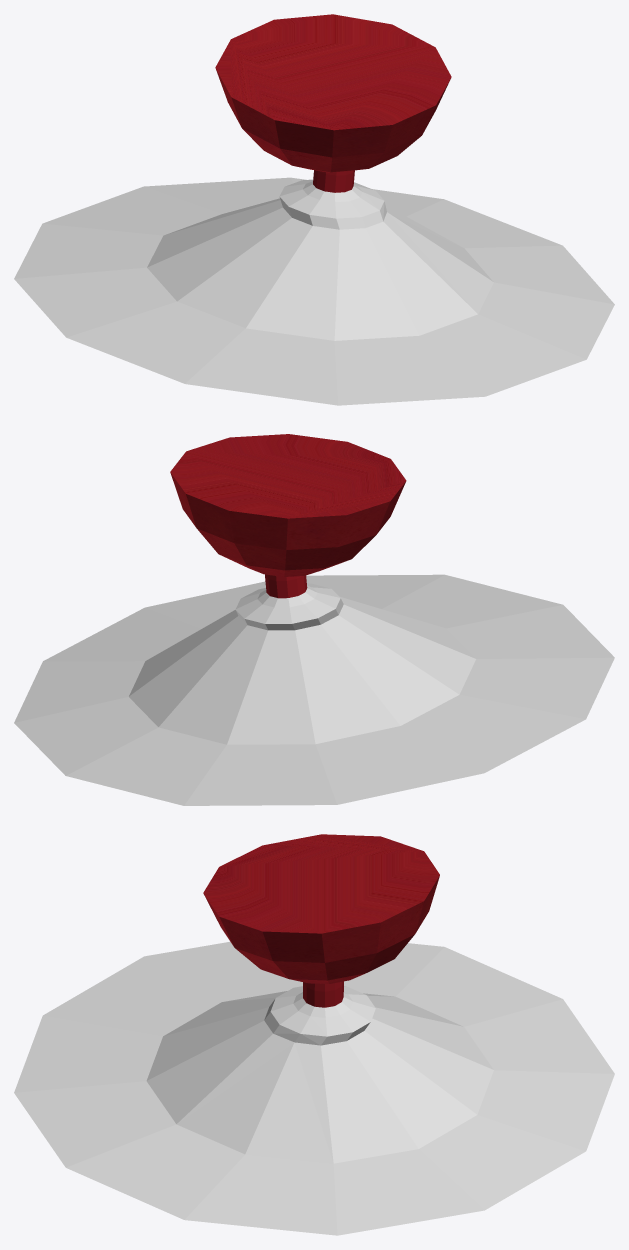
The model's file is Ceng-ceng.fbx.
3 renders of one model, top to bottom at view 1: azimuth 30°, elevation 25°; view 2: azimuth 150°, elevation 25°; view 3: azimuth 270°, elevation 25°, orthographic.
Visible parts, largest first — view 1: Cylinder.008, Sphere.001; view 2: Cylinder.008, Sphere.001; view 3: Cylinder.008, Sphere.001.
Part boxes in pixels (x1,y1,x2,y2): Cylinder.008: [14, 170, 614, 405]; Sphere.001: [215, 14, 451, 172]; Cylinder.008: [14, 574, 614, 805]; Sphere.001: [170, 434, 406, 576]; Cylinder.008: [14, 941, 614, 1235]; Sphere.001: [203, 834, 439, 983].
Size of the model in its own units: 206 by 93.28 by 207.
Materials: 2 (1 with a texture image).
